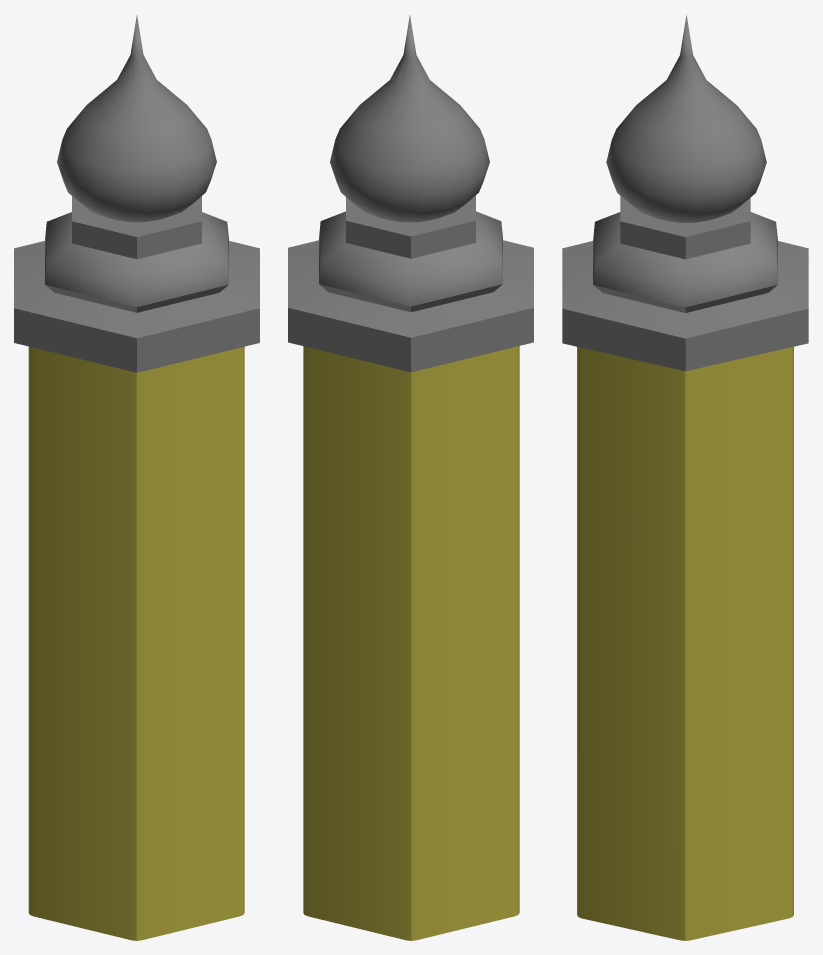
File: SM_wall_pillar.fbx
3 views of the same model, side by side, from view 1: azimuth 30°, elevation 25°; view 2: azimuth 150°, elevation 25°; view 3: azimuth 270°, elevation 25° (orthographic).
Visible parts, largest first — view 1: Object32460; view 2: Object32460; view 3: Object32460.
Part boxes in pixels (box(x1,y1,x2,y2)): Object32460: box(14, 15, 259, 940); Object32460: box(288, 15, 533, 940); Object32460: box(562, 14, 808, 940).
Size of the model in its own units: 26.96 by 91.64 by 23.35.
